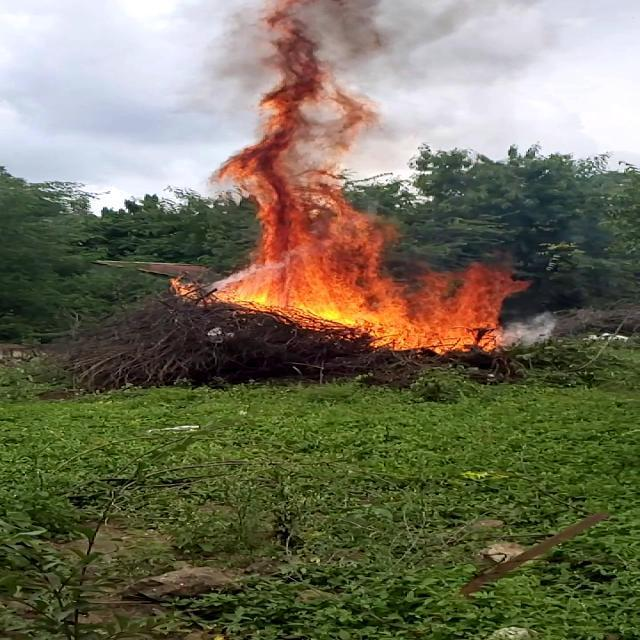Fire: (203, 193, 537, 360)
Smoke: (213, 0, 414, 174)
